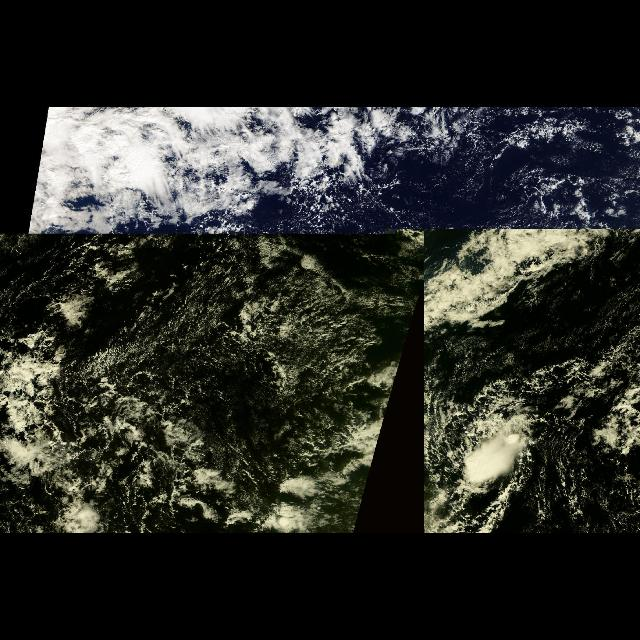Gravel: (240, 242, 386, 476), (327, 111, 621, 226)
Sugar: (94, 261, 224, 393)
